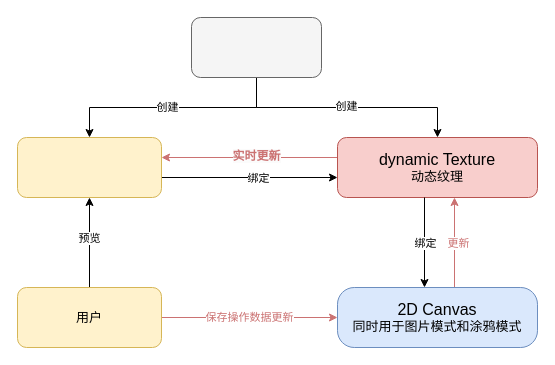
Some shapes in this 555 by 365 pixel diagram are drawn without their labels. The centre of each missing label's shape, as x and y in pixels:
"3D Avatar 实时渲染" goes at point (89, 167).
"babylon 框架" goes at point (256, 47).
